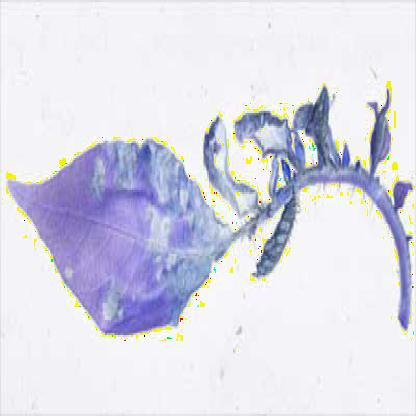Potato leaf late blight: (2, 115, 234, 348)
